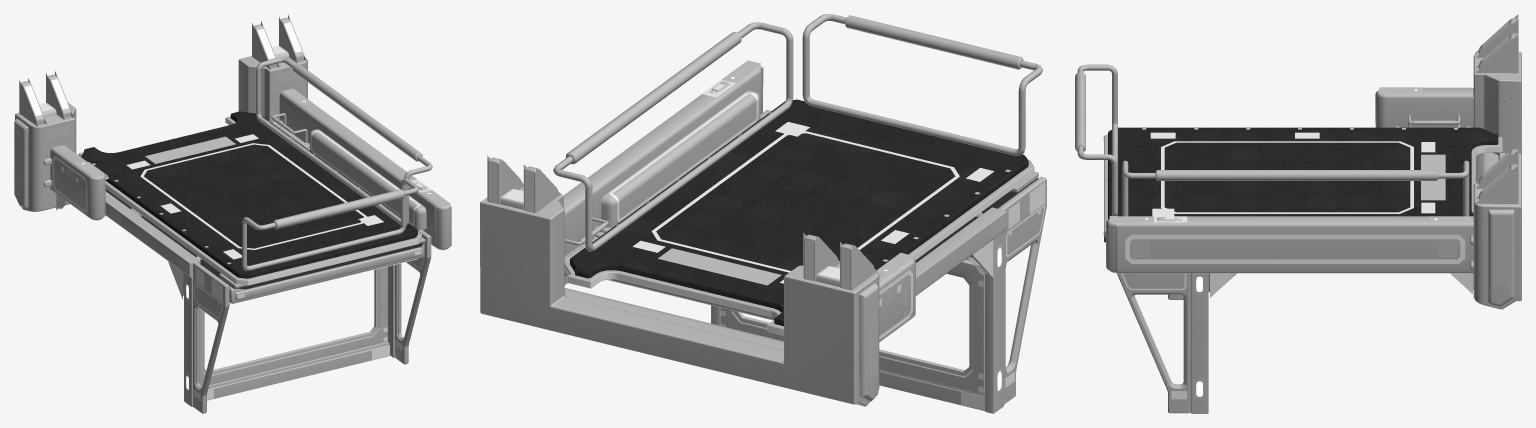
File: SM_Platform_2_Merged.fbx
3 renders of one model, left to right at view 1: azimuth 30°, elevation 25°; view 2: azimuth 150°, elevation 25°; view 3: azimuth 270°, elevation 25°, orthographic. The views are drawn at different scales.
Visible parts, largest first — view 1: SM_Platform_2_Merged_LOD0; view 2: SM_Platform_2_Merged_LOD0; view 3: SM_Platform_2_Merged_LOD0.
Boxes of the visible parts, x1,y1,x2,y2 form: SM_Platform_2_Merged_LOD0: [14, 15, 451, 413]; SM_Platform_2_Merged_LOD0: [480, 14, 1046, 413]; SM_Platform_2_Merged_LOD0: [1075, 14, 1521, 413].
Size of the model in its own units: 491 by 579 by 381.
